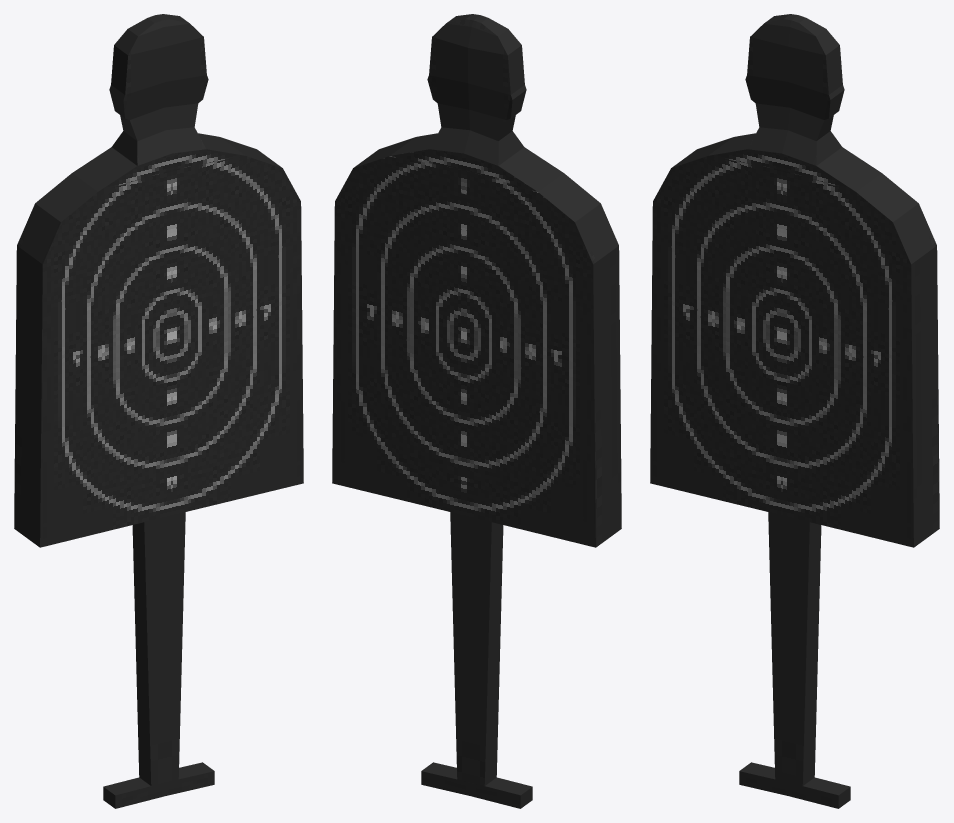
Rendered from target.glb.
The picture shows the model from 3 angles, left to right: view 1: azimuth 30°, elevation 25°; view 2: azimuth 150°, elevation 25°; view 3: azimuth 330°, elevation 25°; orthographic projection.
Visible parts, largest first — view 1: target; view 2: target; view 3: target.
Part boxes in pixels (left/top/right/bottom): target: left=14, top=14, right=303, bottom=808; target: left=332, top=14, right=621, bottom=808; target: left=650, top=14, right=939, bottom=808.
Size of the model in its own units: 2.21 by 6.2 by 0.3758.
1 material, 1 textured.
